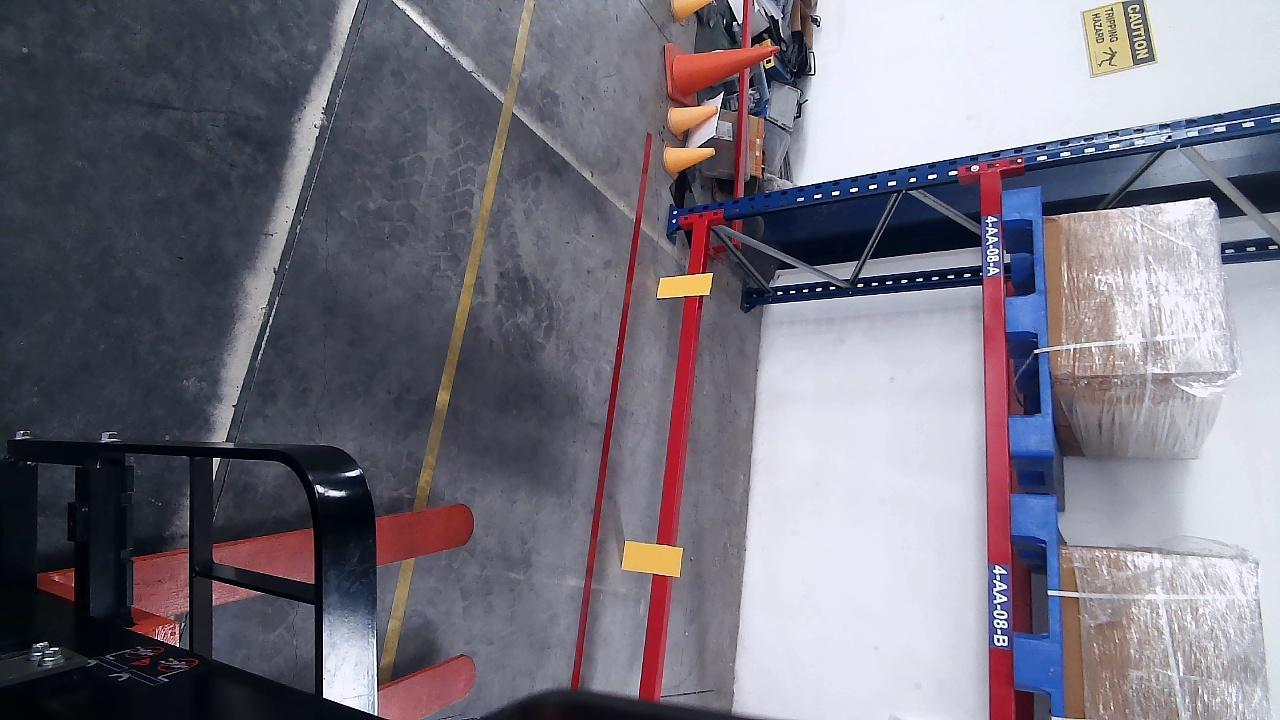h_rack: (639, 222, 706, 698), (981, 172, 1013, 720)
orange_strip: (623, 540, 683, 574), (657, 275, 713, 297)
red_line: (571, 129, 655, 687)
small_pallet: (1001, 186, 1051, 449), (1015, 494, 1057, 718)
yellow_line: (412, 0, 532, 510)
